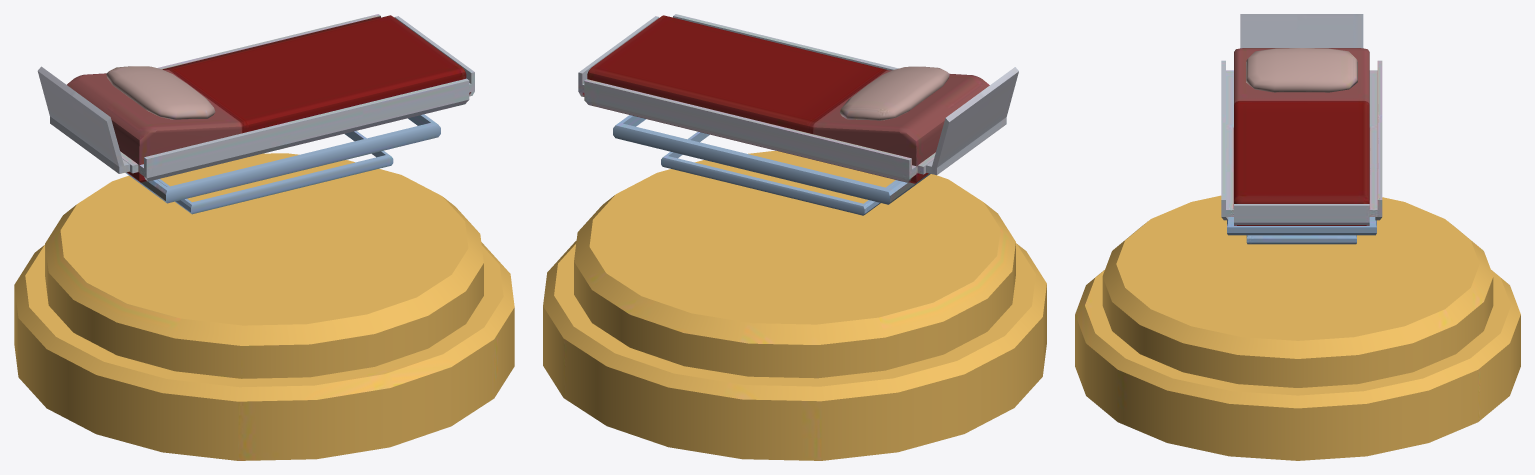
The model's file is MACAOURO.fbx.
The picture shows the model from 3 angles, left to right: view 1: azimuth 30°, elevation 25°; view 2: azimuth 150°, elevation 25°; view 3: azimuth 270°, elevation 25°; orthographic projection. The views are drawn at different scales.
Visible parts, largest first — view 1: polySurface24, polySurface21; view 2: polySurface24, polySurface21; view 3: polySurface24, polySurface21.
Part boxes in pixels (bbox=[...]): polySurface24: bbox=[14, 153, 514, 460]; polySurface21: bbox=[37, 14, 474, 214]; polySurface24: bbox=[543, 151, 1046, 460]; polySurface21: bbox=[578, 14, 1018, 215]; polySurface24: bbox=[1075, 195, 1520, 460]; polySurface21: bbox=[1221, 14, 1382, 244].
Size of the model in its own units: 0.4773 by 0.3217 by 0.4773.
1 material, 1 textured.
